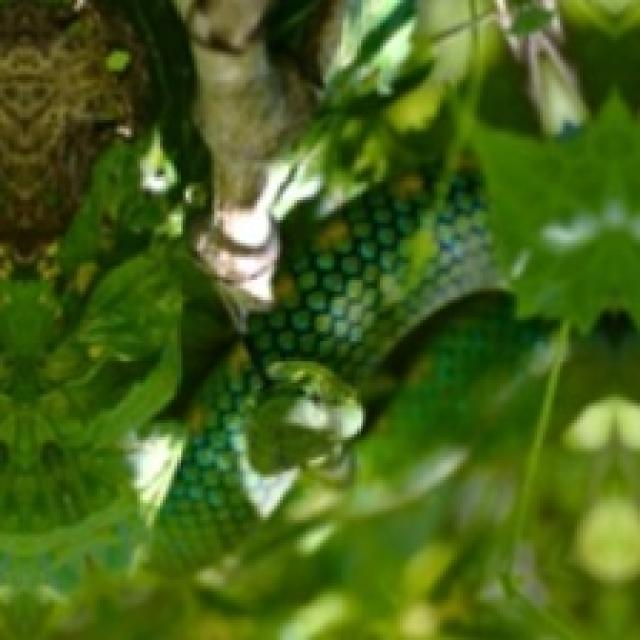philippine pitviper: (135, 178, 549, 570), (129, 174, 500, 571)
